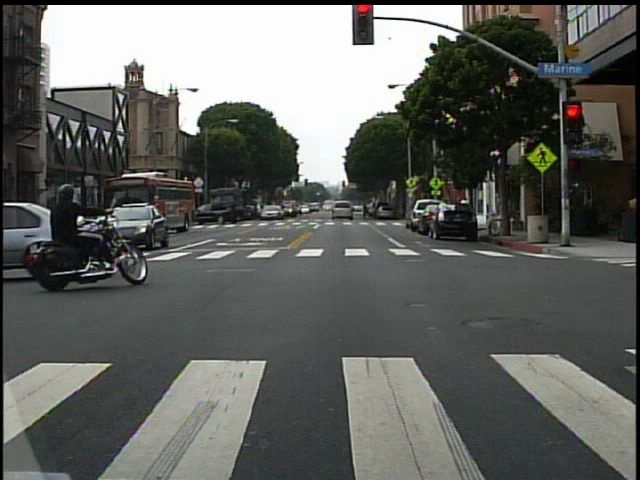person: (34, 177, 118, 287)
